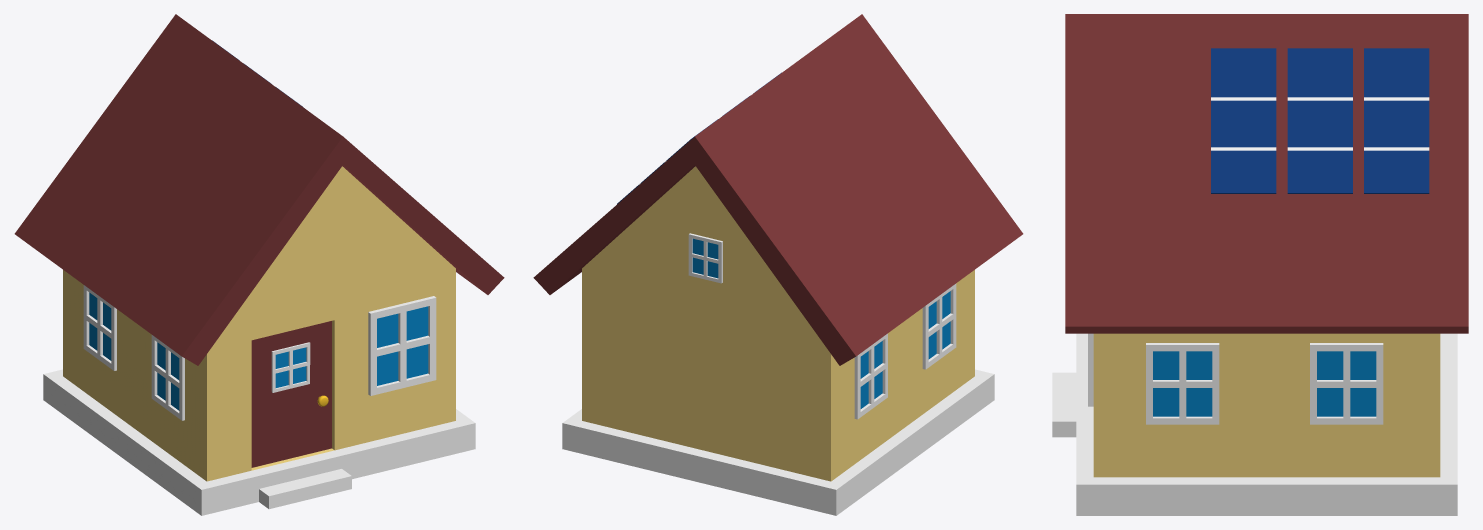
Rendered from house.glb.
The picture shows the model from 3 angles, left to right: view 1: azimuth 30°, elevation 25°; view 2: azimuth 150°, elevation 25°; view 3: azimuth 270°, elevation 25°; orthographic projection. The views are drawn at different scales.
Parts seen in each view (by area): view 1: Cube.480; view 2: Cube.480; view 3: Cube.480.
Boxes of the visible parts, left/top/right/bottom form: Cube.480: left=14, top=14, right=504, bottom=515; Cube.480: left=533, top=14, right=1023, bottom=515; Cube.480: left=1052, top=14, right=1468, bottom=515.
Size of the model in its own units: 1.9 by 1.97 by 1.76.
Materials: 1 (1 with a texture image).
